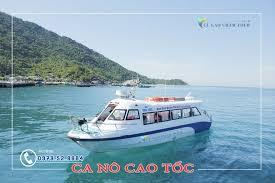Ship: (69, 89, 212, 152)
